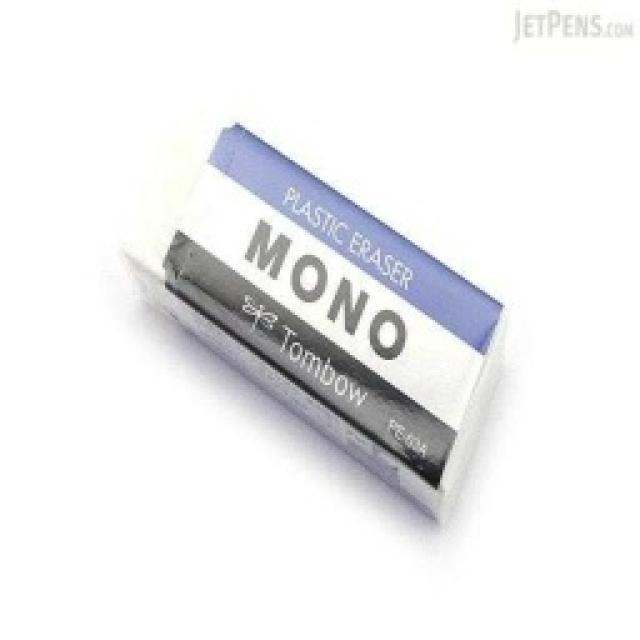Silgi: (121, 112, 508, 527)
